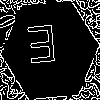E: (25, 25, 59, 73)
